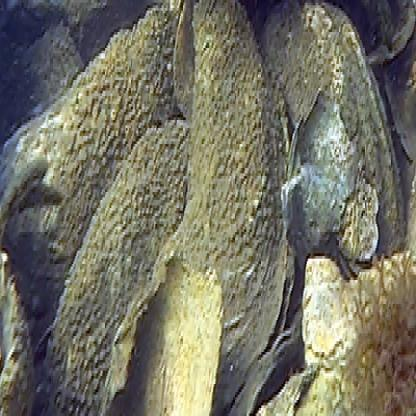Oyster- Indeterminate: (160, 0, 295, 411), (303, 0, 407, 257)
Oyster-Closed: (0, 0, 187, 347), (37, 124, 193, 416), (305, 254, 416, 365)
